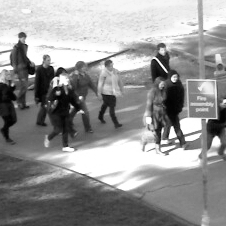person: (43, 67, 75, 152), (142, 76, 167, 155), (97, 58, 123, 126), (166, 69, 188, 147), (70, 59, 93, 133), (9, 31, 30, 109), (205, 91, 226, 157), (34, 54, 53, 125), (1, 69, 16, 145), (149, 42, 171, 77)
